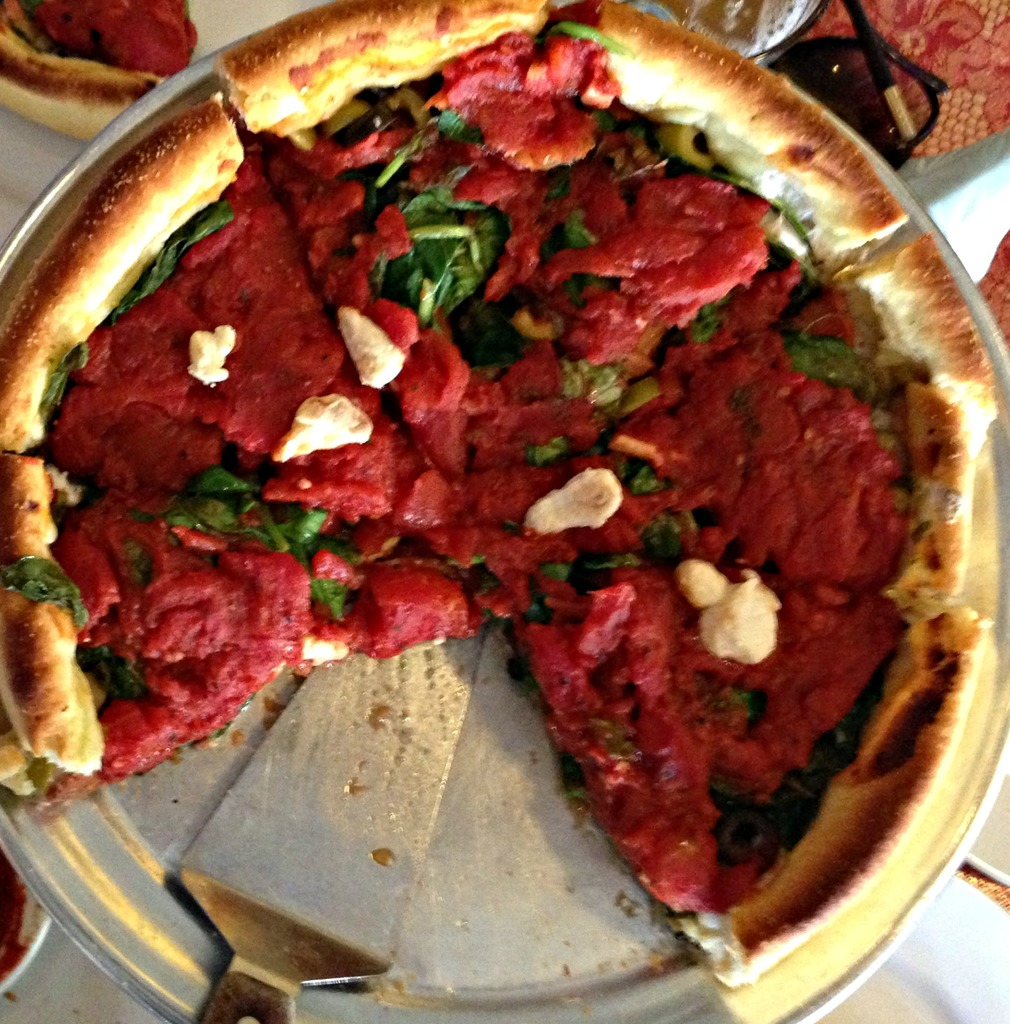Pizza: (0, 0, 1002, 1022)
